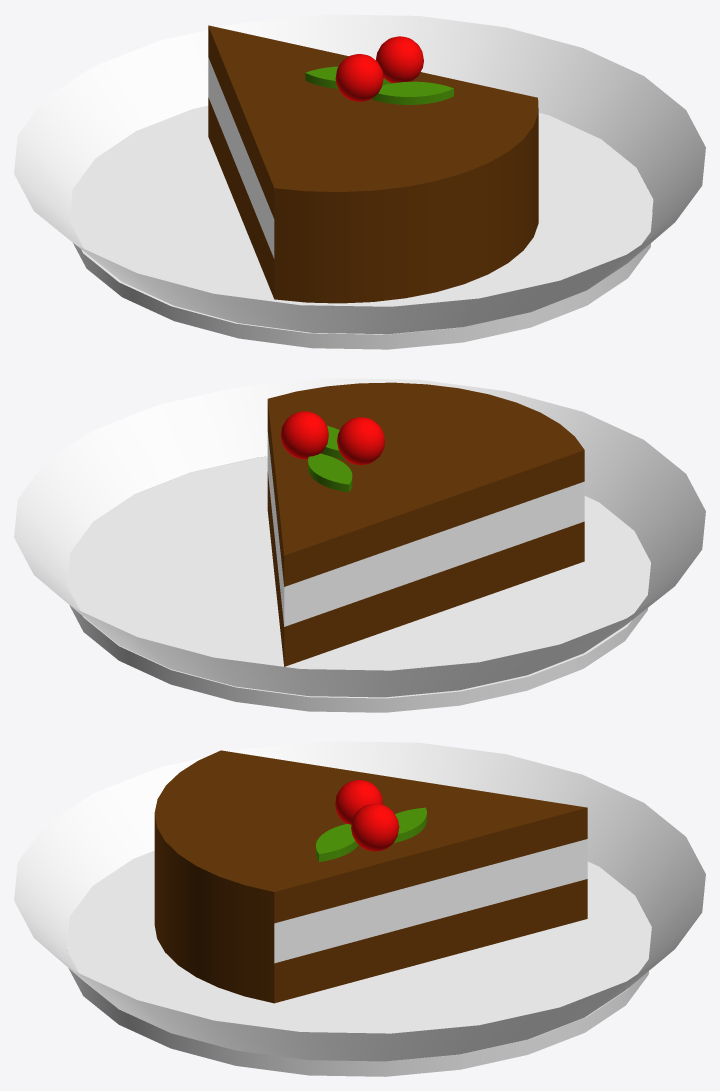
The model's file is cake.dae.
3 renders of one model, top to bottom at view 1: azimuth 30°, elevation 25°; view 2: azimuth 150°, elevation 25°; view 3: azimuth 270°, elevation 25°, orthographic.
Visible parts, largest first — view 1: group_1 (×2), group_2 (×2), SimpleSphere02 (×2), group_4, group_3; view 2: group_1 (×2), group_2 (×2), SimpleSphere02 (×2), group_3; view 3: group_1 (×2), group_2 (×2), SimpleSphere02 (×2), group_4, group_3.
Part boxes in pixels (x1=…): group_1 (×2): x1=14, y1=14, x2=705, y2=349; group_2 (×2): x1=208, y1=25, x2=538, y2=303; SimpleSphere02 (×2): x1=335, y1=36, x2=423, y2=101; group_4: x1=371, y1=81, x2=453, y2=104; group_3: x1=305, y1=66, x2=390, y2=88; group_1 (×2): x1=14, y1=378, x2=705, y2=712; group_2 (×2): x1=267, y1=382, x2=584, y2=666; SimpleSphere02 (×2): x1=281, y1=411, x2=385, y2=464; group_3: x1=308, y1=453, x2=352, y2=492; group_1 (×2): x1=14, y1=741, x2=705, y2=1076; group_2 (×2): x1=154, y1=750, x2=587, y2=1003; SimpleSphere02 (×2): x1=335, y1=780, x2=399, y2=851; group_4: x1=316, y1=823, x2=358, y2=861; group_3: x1=393, y1=807, x2=426, y2=843.
Bounding box in the file's own units: 949 × 949 × 258.
